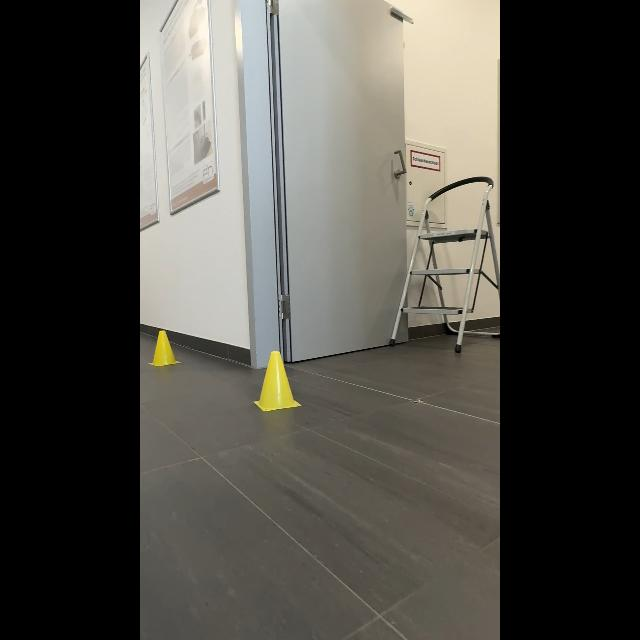yellow_cone: (252, 348, 304, 414), (145, 327, 183, 369)
